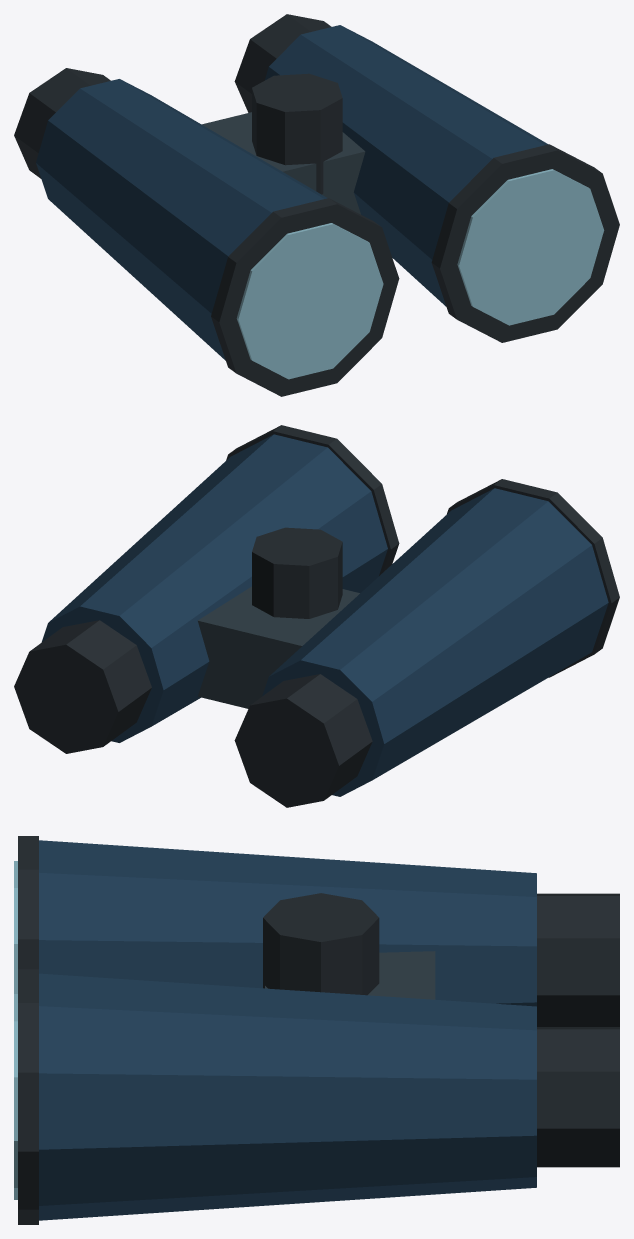
File: b17_compact_binoculars.glb
3 renders of one model, top to bottom at view 1: azimuth 30°, elevation 25°; view 2: azimuth 150°, elevation 25°; view 3: azimuth 270°, elevation 25°, orthographic. The views are drawn at different scales.
Visible parts, largest first — view 1: b17_compact_binoculars; view 2: b17_compact_binoculars; view 3: b17_compact_binoculars.
Part boxes in pixels (x1,y1,x2,y2): b17_compact_binoculars: (14,14,619,396); b17_compact_binoculars: (14,425,619,807); b17_compact_binoculars: (14,836,619,1224).
Bounding box in the file's own units: 0.138 × 0.0595 × 0.146.
